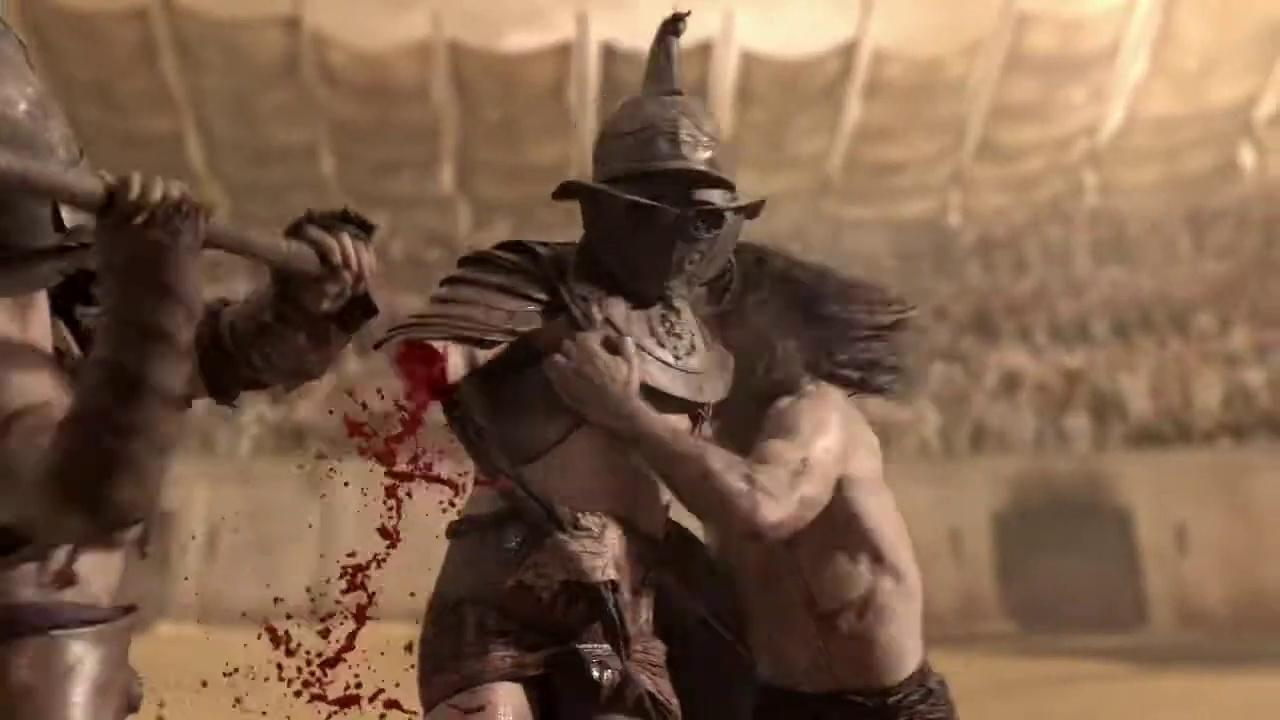Fire: (130, 341, 469, 720)
